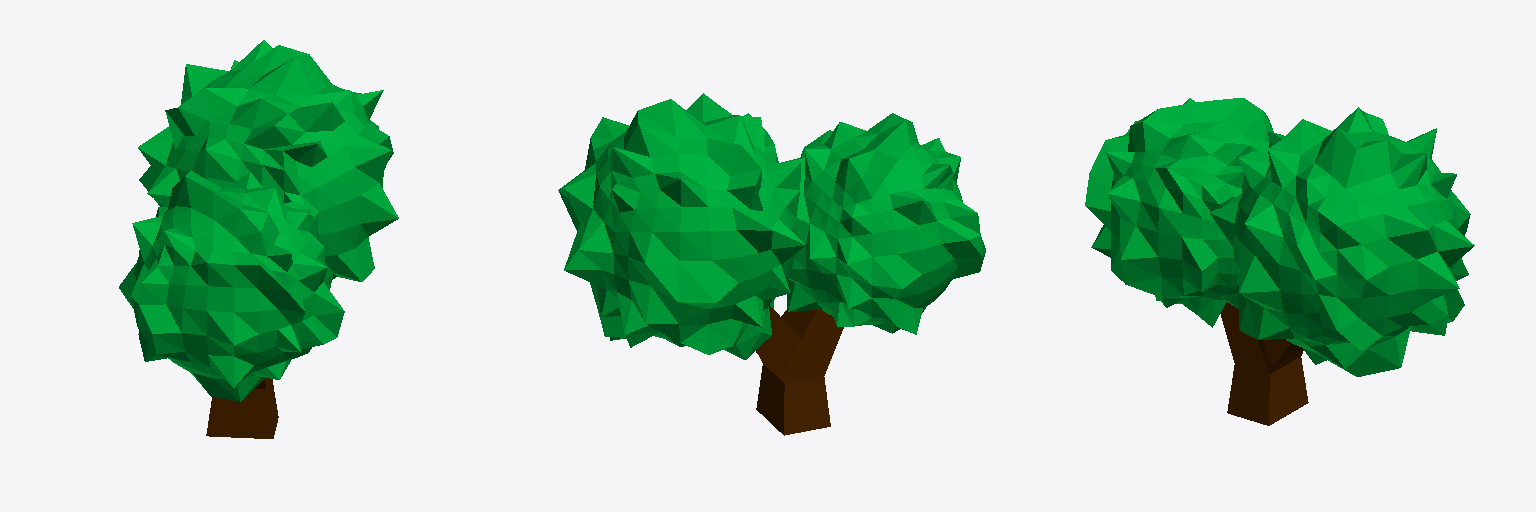
The model's file is tree4.obj.
The picture shows the model from 3 angles: view 1: azimuth 30°, elevation 25°; view 2: azimuth 150°, elevation 25°; view 3: azimuth 270°, elevation 25°; orthographic projection.
Parts seen in each view (by area): view 1: Tree; view 2: Tree; view 3: Tree.
Part boxes in pixels (x1,y1,x2,y2): Tree: (119, 40, 398, 438); Tree: (558, 93, 985, 435); Tree: (1085, 98, 1474, 425).
Size of the model in its own units: 45.55 by 42.27 by 46.19.